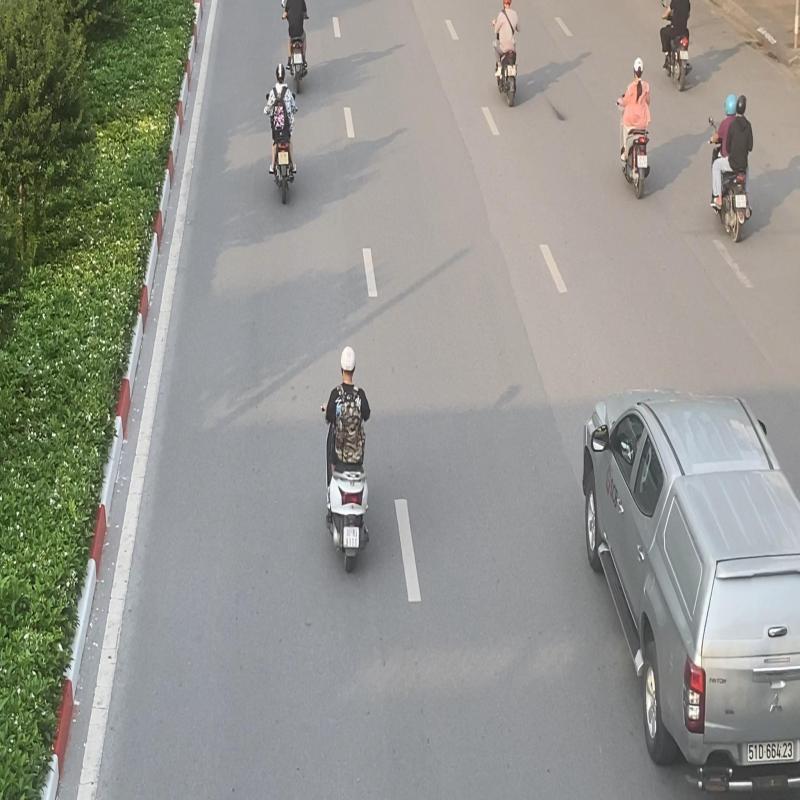helmet: (341, 347, 356, 378), (724, 94, 738, 116), (632, 56, 644, 80), (736, 94, 748, 114), (276, 62, 286, 84)
licenseplate: (342, 526, 360, 548), (735, 194, 746, 208), (278, 152, 289, 165), (637, 155, 648, 168)
motorcyclist: (320, 345, 372, 573), (707, 92, 753, 243), (614, 56, 652, 200), (263, 62, 297, 205)
